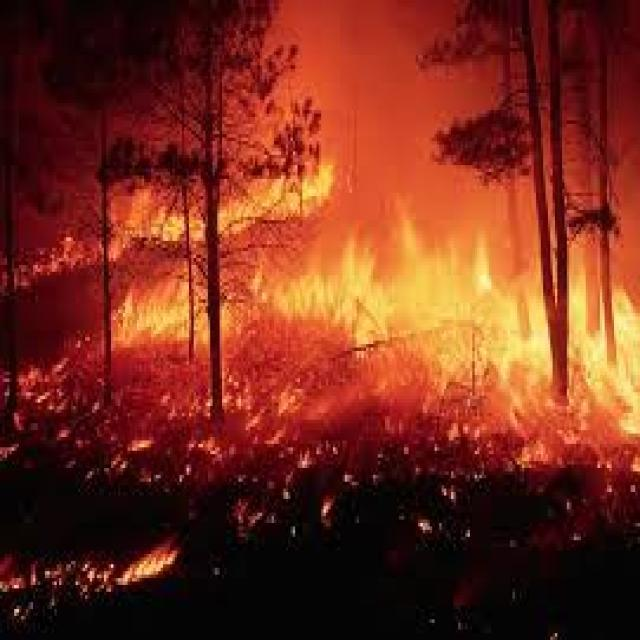Fire: (235, 210, 638, 417), (219, 168, 339, 235), (108, 206, 203, 260), (13, 239, 101, 295), (118, 280, 192, 337), (113, 549, 177, 590)
Smoke: (228, 1, 541, 282)
